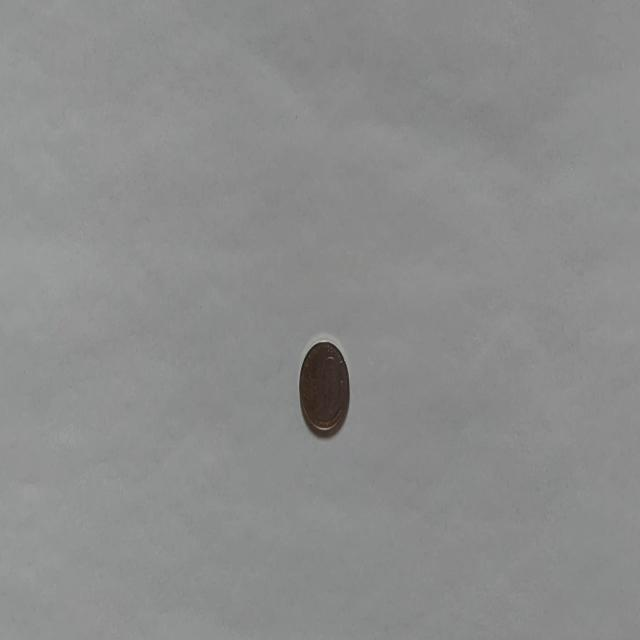seribu rupiah koin: (298, 335, 350, 437)
